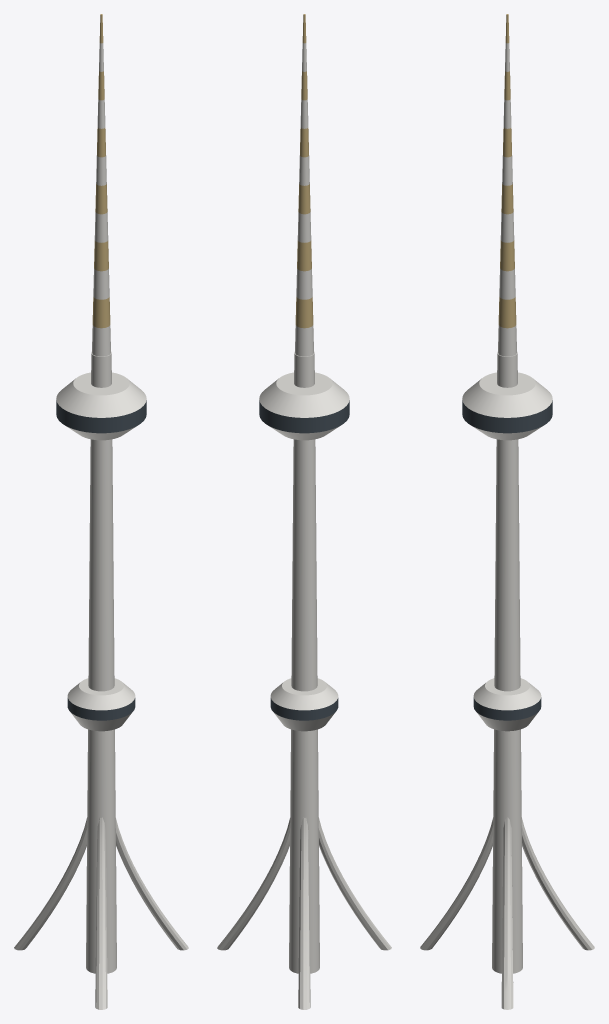
Rendered from minora.glb.
3 renders of one model, left to right at view 1: azimuth 30°, elevation 25°; view 2: azimuth 150°, elevation 25°; view 3: azimuth 270°, elevation 25°, orthographic.
Visible parts, largest first — view 1: minora; view 2: minora; view 3: minora.
Boxes of the visible parts, x1,y1,x2,y2 form: minora: (14, 14, 188, 1009); minora: (217, 14, 391, 1009); minora: (420, 14, 594, 1009).
Bounding box in the file's own units: 54.2 × 372 × 61.69.
